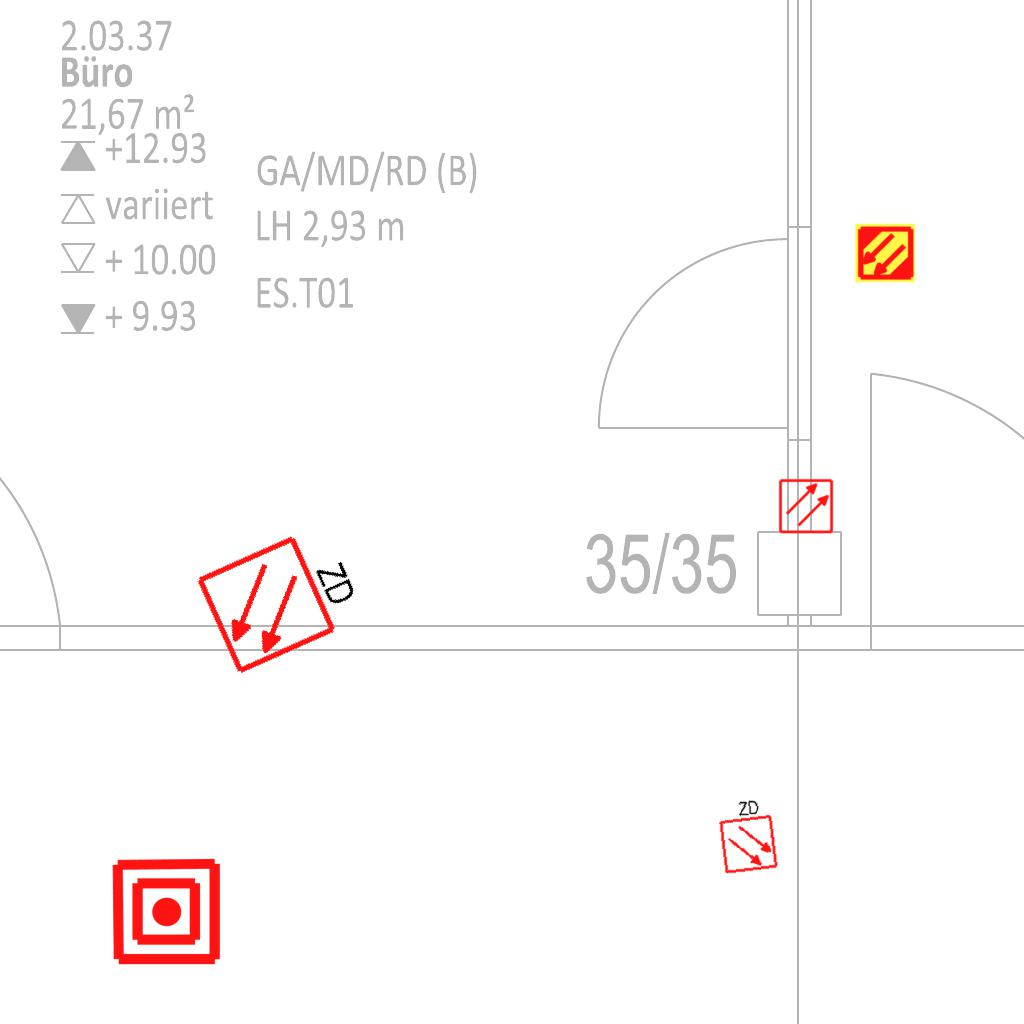ASR_Ansaugrauchmelder: (854, 222, 916, 284)
NAM-Nichtautomatischer_Melder: (110, 855, 223, 968)
RMO_Rauchmelder_optischer: (778, 478, 834, 534)
ZD_Melder_in_Zwischendecke_mit_Revisionsoeffnung_mind_40_x_40_cm: (191, 513, 375, 678), (713, 794, 780, 876)
